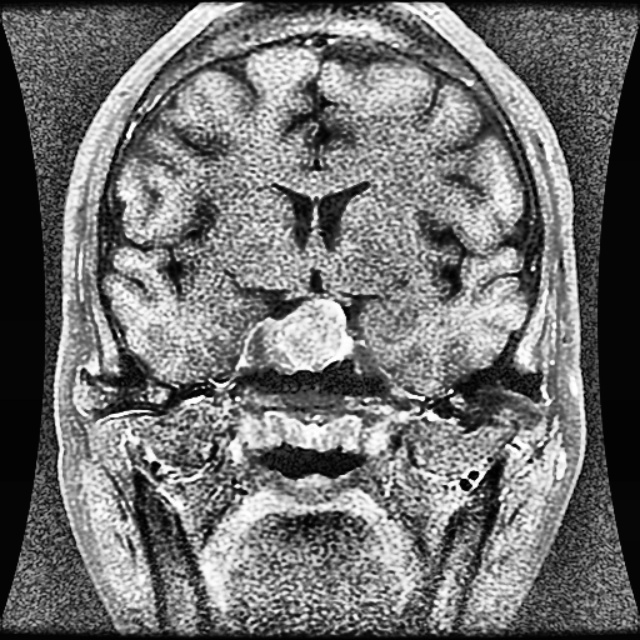Pituitary: (243, 298, 353, 374)
